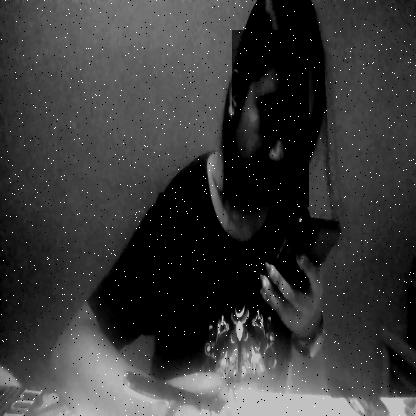Distracted: (232, 30, 309, 207)
